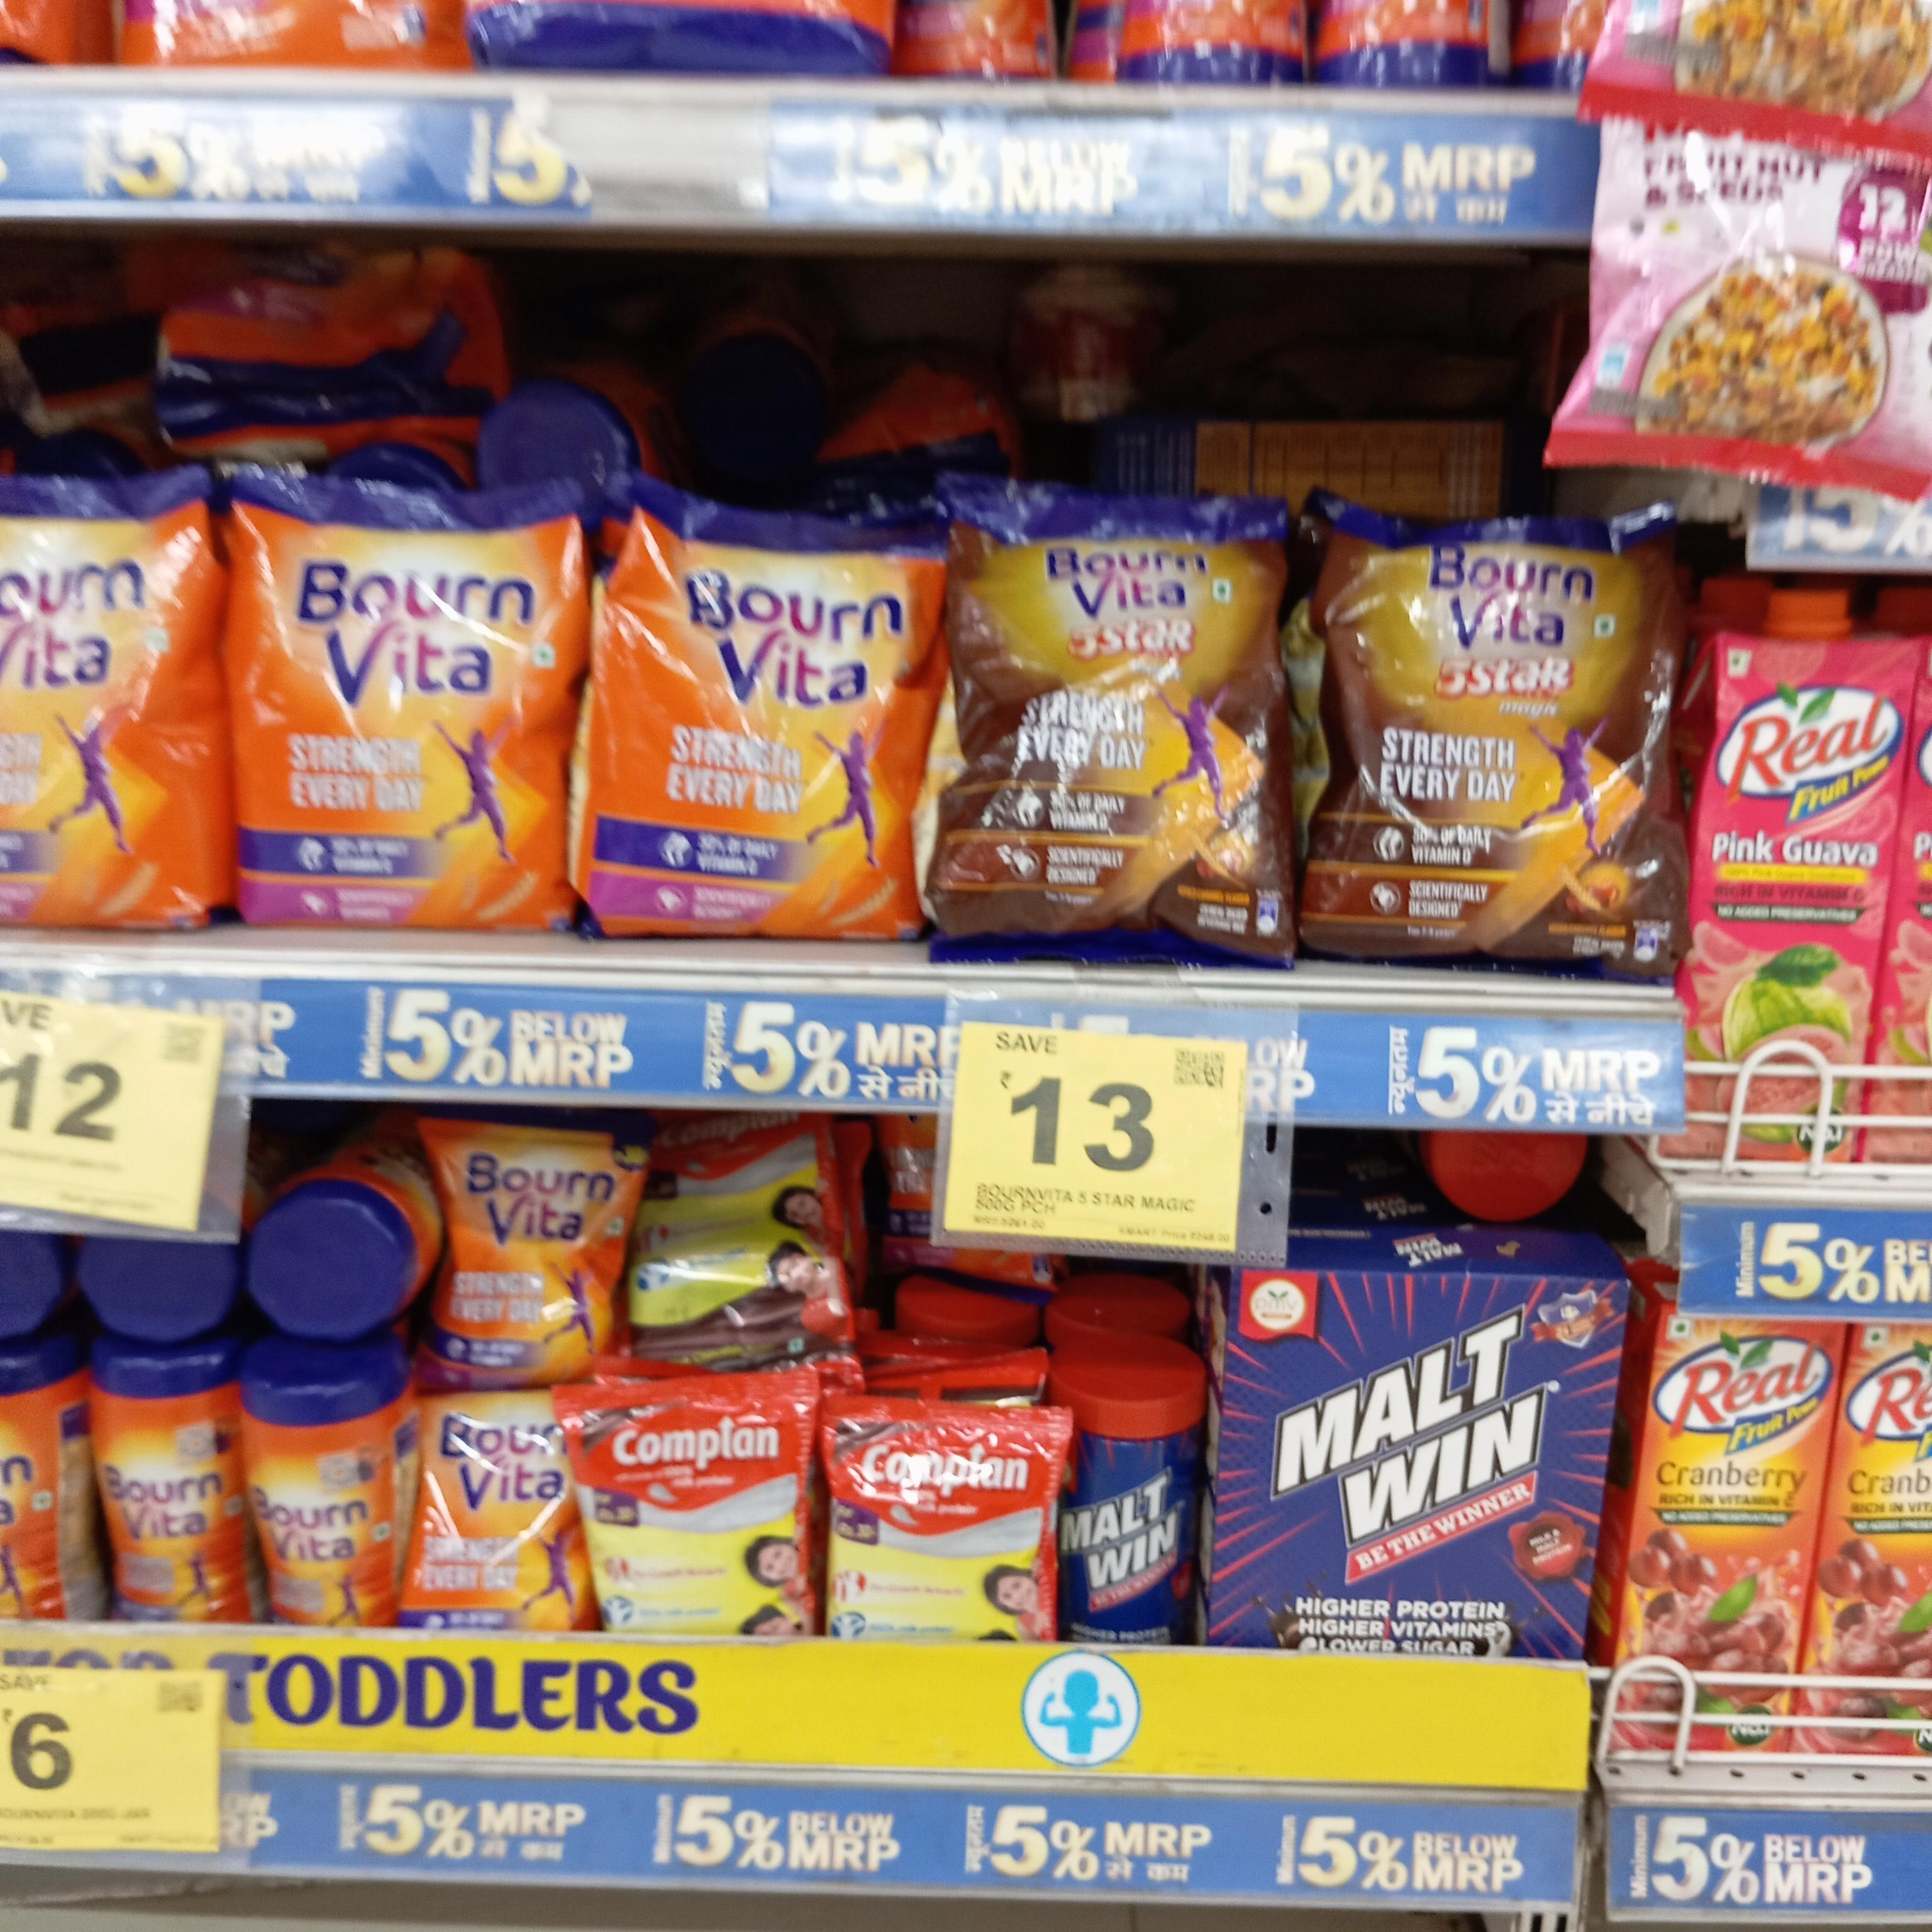BOURN_VITA_200_G_JAR: (90, 1341, 237, 1633), (258, 1350, 393, 1631)
BOURN_VITA_500_G_POUCH: (226, 474, 563, 929), (594, 488, 909, 934)
BOURN_VITA_75_G_POUCH: (407, 1380, 563, 1644)
BOURN_VITA_FIVE_STAR_MAGIC_500_G_POUCH: (1300, 492, 1681, 971), (929, 483, 1284, 962)
